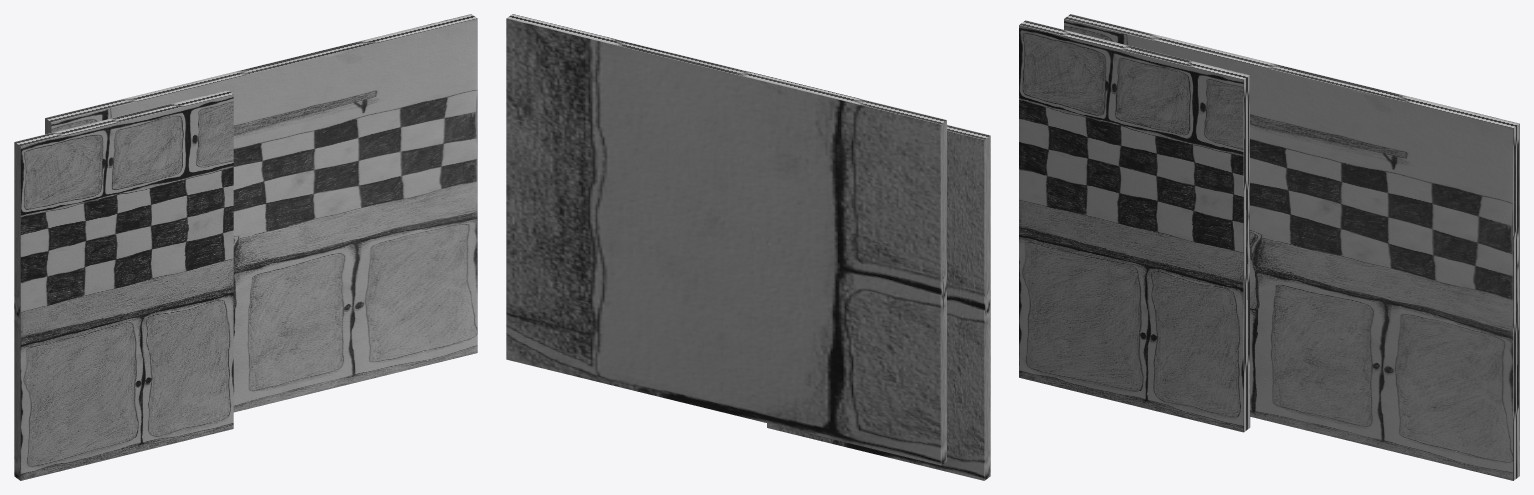
The model's file is Other2_3.fbx.
3 renders of one model, left to right at view 1: azimuth 30°, elevation 25°; view 2: azimuth 150°, elevation 25°; view 3: azimuth 330°, elevation 25°, orthographic. The views are drawn at different scales.
Visible parts, largest first — view 1: Cube, Cube.001; view 2: Cube, Cube.001; view 3: Cube, Cube.001.
Part boxes in pixels (x1,y1,x2,y2): Cube: [45, 14, 477, 412]; Cube.001: [14, 90, 233, 480]; Cube: [506, 14, 946, 465]; Cube.001: [767, 125, 990, 480]; Cube: [1064, 14, 1519, 480]; Cube.001: [1019, 20, 1250, 432].
Size of the model in its own units: 869 by 619 by 39.62.
